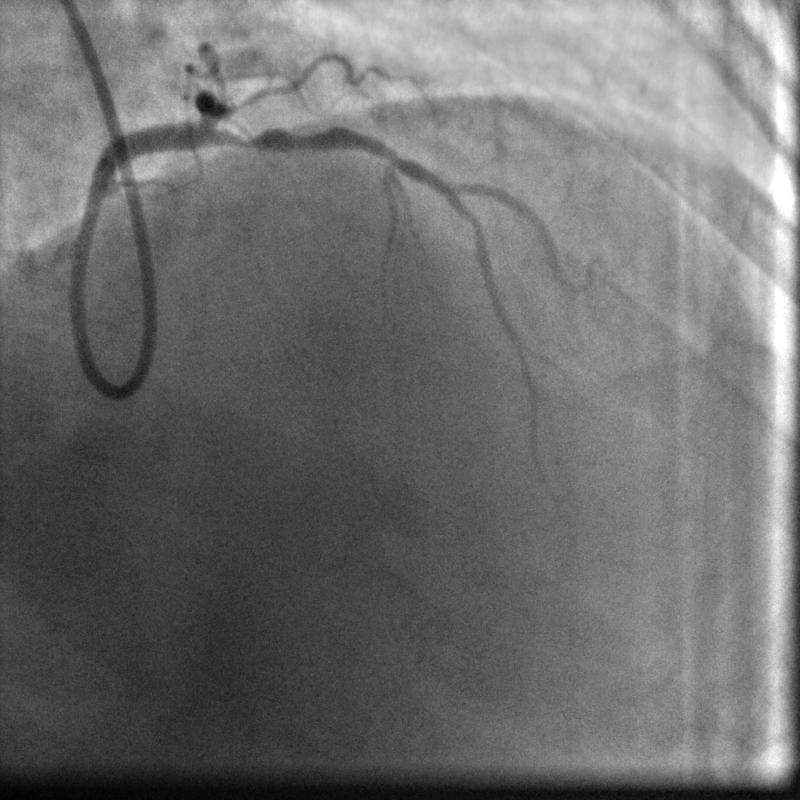Stenosis: (236, 120, 328, 152)
